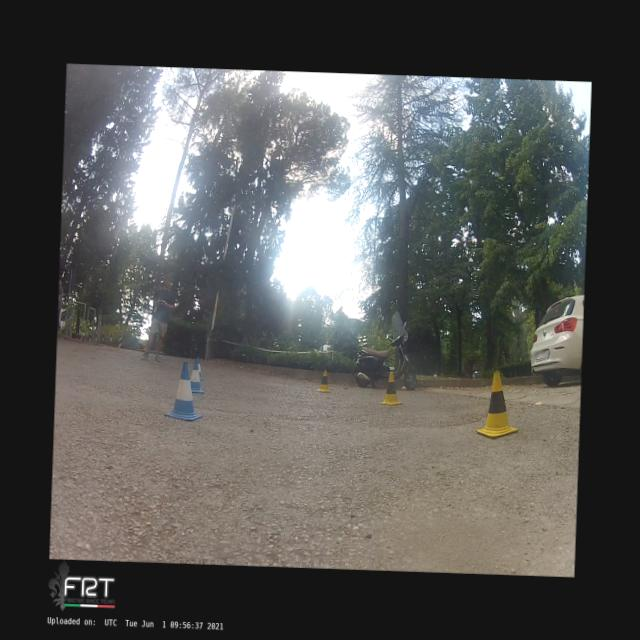blue_cone: (164, 361, 204, 421), (190, 359, 206, 394), (196, 356, 204, 381)
yellow_cone: (475, 371, 520, 438), (378, 370, 403, 405), (316, 368, 332, 392)
